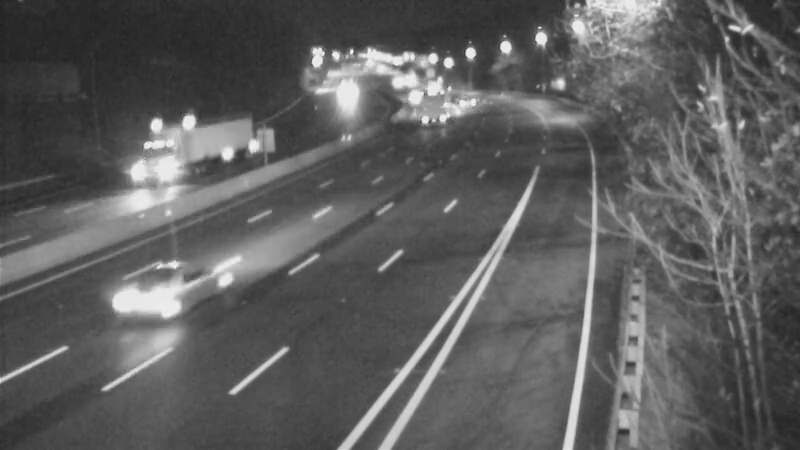vehicle: (122, 252, 202, 332), (127, 120, 207, 200), (439, 73, 489, 123), (409, 77, 459, 127), (317, 73, 367, 123)
